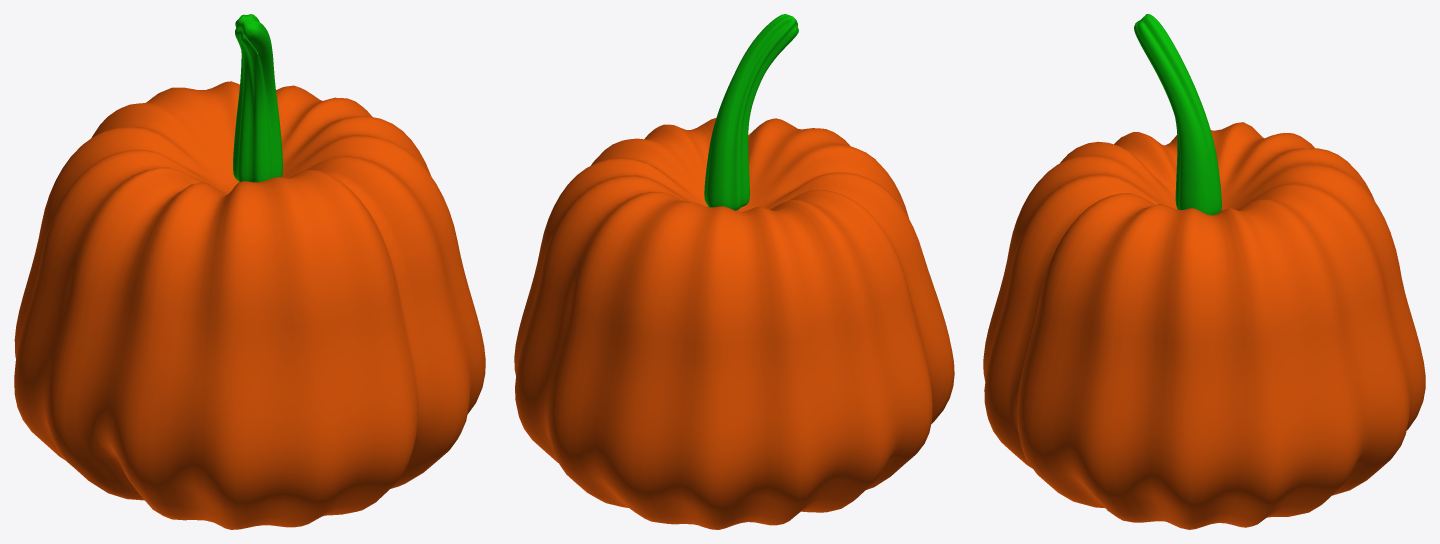
File: pumkin_1.glb
3 views of the same model, side by side, from view 1: azimuth 30°, elevation 25°; view 2: azimuth 150°, elevation 25°; view 3: azimuth 270°, elevation 25° (orthographic). The views are drawn at different scales.
Parts seen in each view (by area): view 1: Sphere.002_7, Cylinder.002_6; view 2: Sphere.002_7, Cylinder.002_6; view 3: Sphere.002_7, Cylinder.002_6.
Boxes of the visible parts, x1,y1,x2,y2 form: Sphere.002_7: [14, 81, 485, 529]; Cylinder.002_6: [233, 14, 282, 182]; Sphere.002_7: [514, 118, 954, 529]; Cylinder.002_6: [704, 14, 798, 210]; Sphere.002_7: [983, 122, 1425, 529]; Cylinder.002_6: [1134, 14, 1221, 215].
Bounding box in the file's own units: 1.74 × 1.98 × 1.76.
